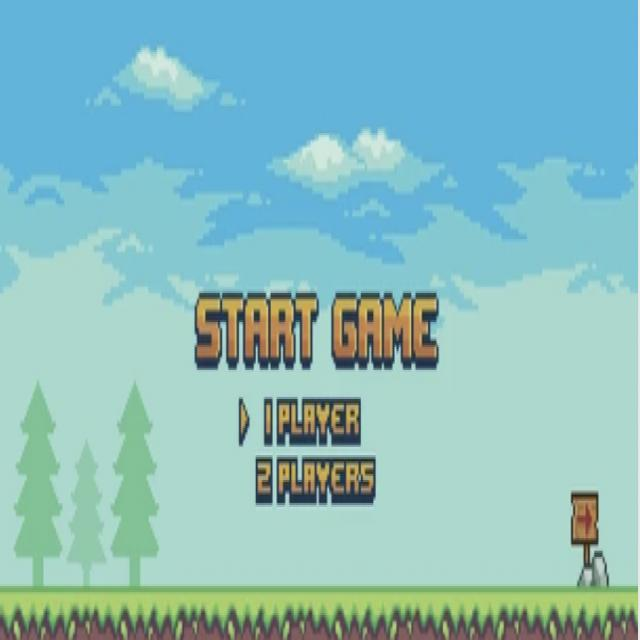Start-button: (196, 285, 454, 382)
